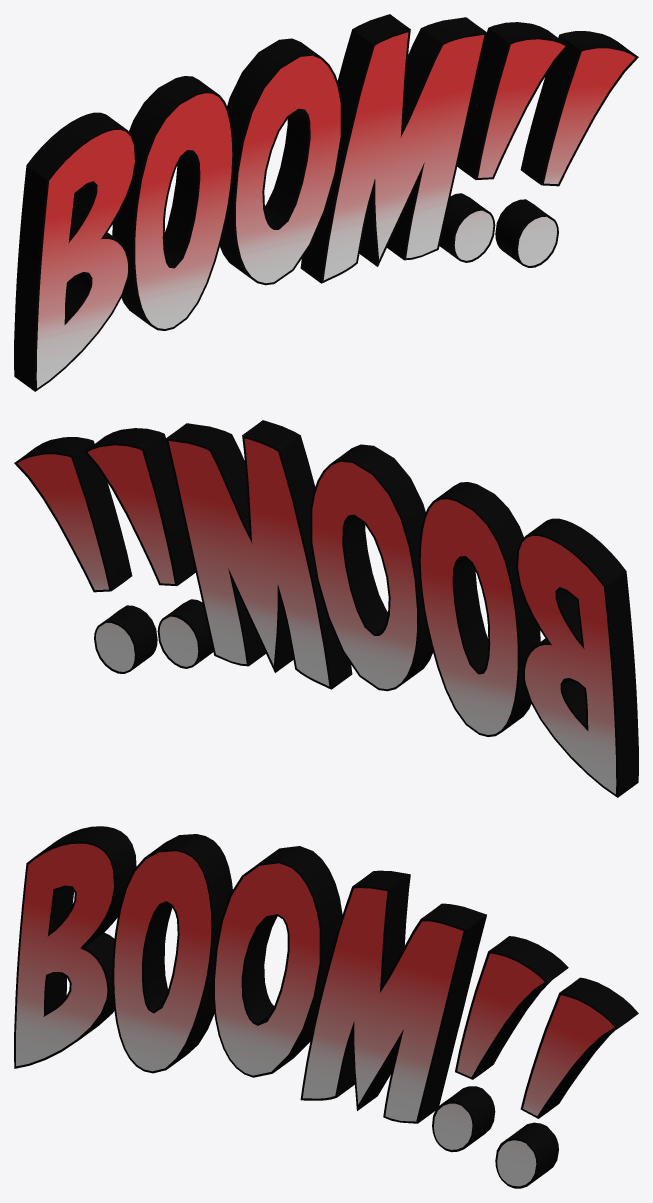
Rendered from BOOM.fbx.
The picture shows the model from 3 angles, top to bottom: view 1: azimuth 30°, elevation 25°; view 2: azimuth 150°, elevation 25°; view 3: azimuth 330°, elevation 25°; orthographic projection.
Parts seen in each view (by area): view 1: polySurface32; view 2: polySurface32; view 3: polySurface32.
Boxes of the visible parts, x1,y1,x2,y2 form: polySurface32: (14, 14, 638, 391); polySurface32: (14, 420, 638, 797); polySurface32: (14, 826, 638, 1188).
Size of the model in its own units: 10.74 by 4.63 by 0.6436.
1 material, 1 textured.
